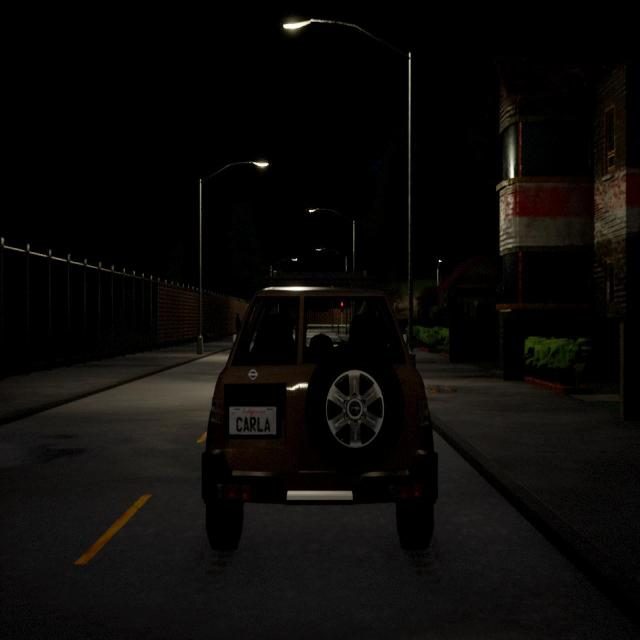Pedestrian: (234, 310, 242, 337)
Vehicle: (202, 282, 438, 560)
traffic_light: (340, 301, 344, 313)
